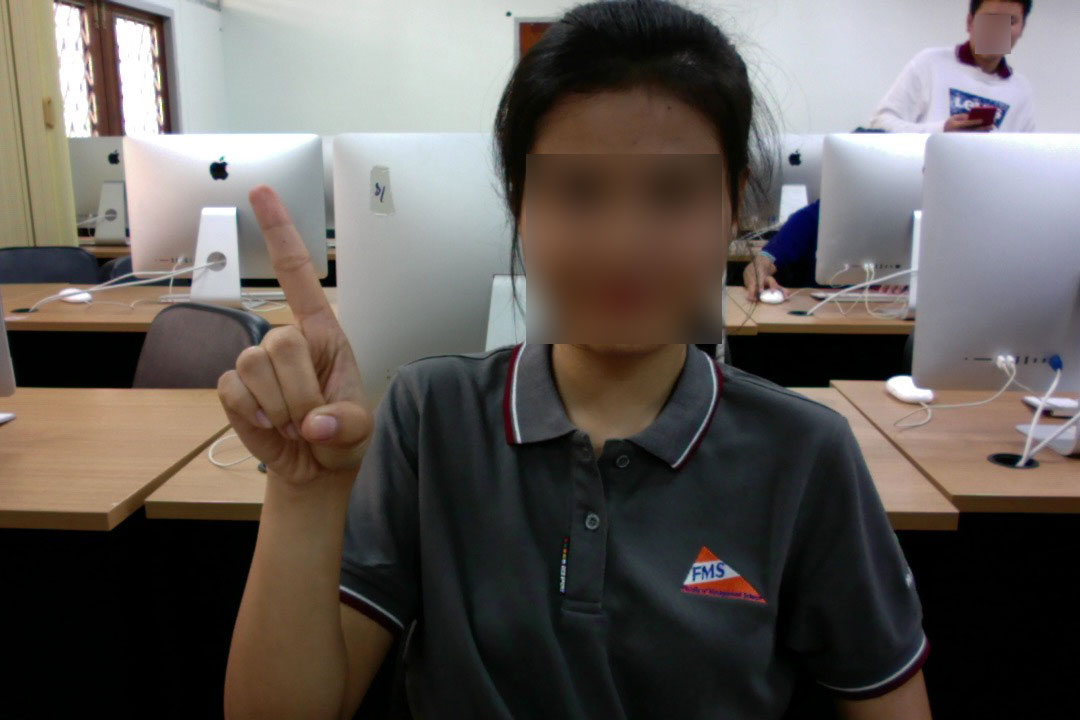dor: (215, 179, 378, 501)
